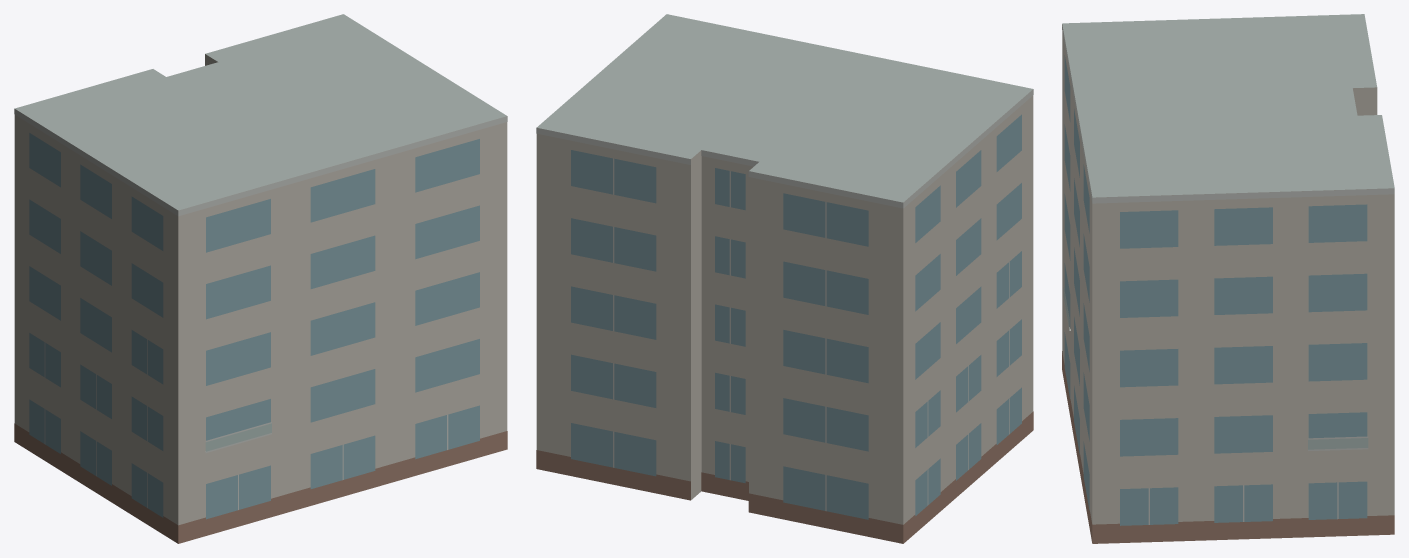
File: survey-upis-32728401.glb
3 views of the same model, side by side, from view 1: azimuth 30°, elevation 25°; view 2: azimuth 150°, elevation 25°; view 3: azimuth 270°, elevation 25° (orthographic). The views are drawn at different scales.
Parts seen in each view (by area): view 1: survey-upis-32728401.tmp; view 2: survey-upis-32728401.tmp; view 3: survey-upis-32728401.tmp.
Part boxes in pixels (<box>): survey-upis-32728401.tmp: <box>14,14,507,543</box>; survey-upis-32728401.tmp: <box>536,14,1033,543</box>; survey-upis-32728401.tmp: <box>1062,14,1394,543</box>.
Bounding box in the file's own units: 15.92 × 14 × 12.2.
